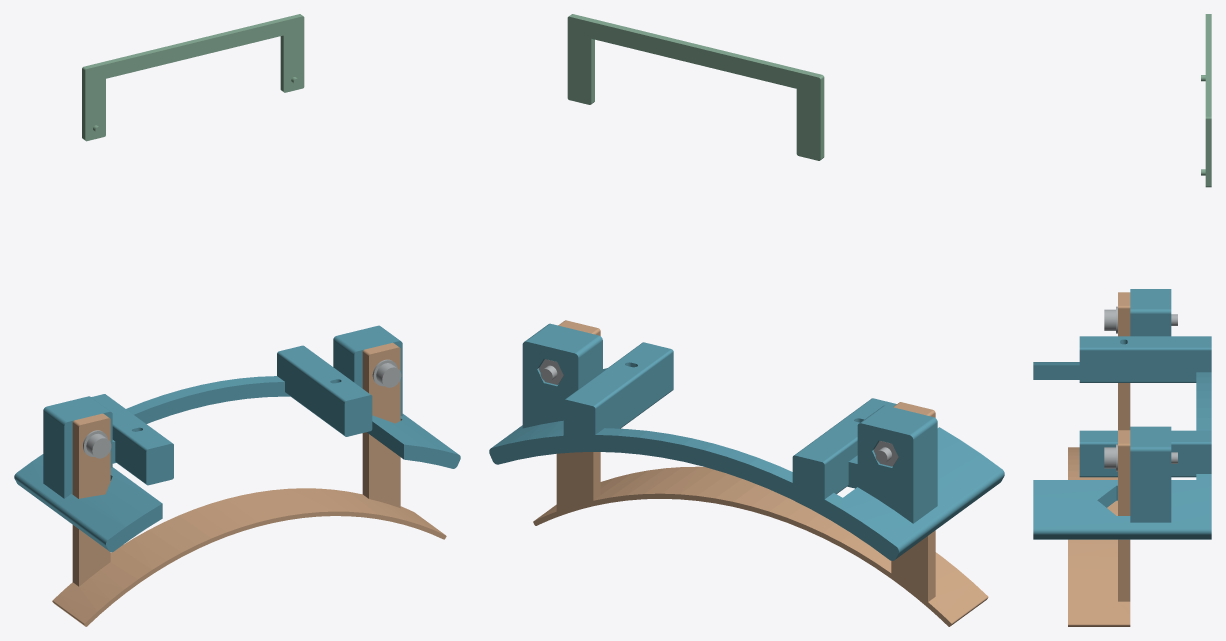
File: R08_ASSIEME_CON_FERRAMENTA_SCHEMATICA.glb
3 renders of one model, left to right at view 1: azimuth 30°, elevation 25°; view 2: azimuth 150°, elevation 25°; view 3: azimuth 270°, elevation 25°, orthographic. The views are drawn at different scales.
Parts seen in each view (by area): view 1: base_appoggi, ponte_terminale, dima_interasse; view 2: base_appoggi, ponte_terminale, dima_interasse; view 3: base_appoggi, ponte_terminale, dima_interasse, vite_M3x16_1, vite_M3x16_2.
Boxes of the visible parts, x1=… form: base_appoggi: x1=14, y1=325, x2=460, y2=552; ponte_terminale: x1=52, y1=342, x2=446, y2=626; dima_interasse: x1=82, y1=14, x2=304, y2=141; base_appoggi: x1=489, y1=323, x2=1004, y2=560; ponte_terminale: x1=533, y1=320, x2=988, y2=626; dima_interasse: x1=567, y1=14, x2=824, y2=160; base_appoggi: x1=1033, y1=289, x2=1211, y2=539; ponte_terminale: x1=1068, y1=292, x2=1130, y2=626; dima_interasse: x1=1201, y1=14, x2=1211, y2=187; vite_M3x16_1: x1=1104, y1=309, x2=1177, y2=330; vite_M3x16_2: x1=1104, y1=447, x2=1177, y2=468.
Size of the model in its own units: 0.105 by 0.1354 by 0.046.
